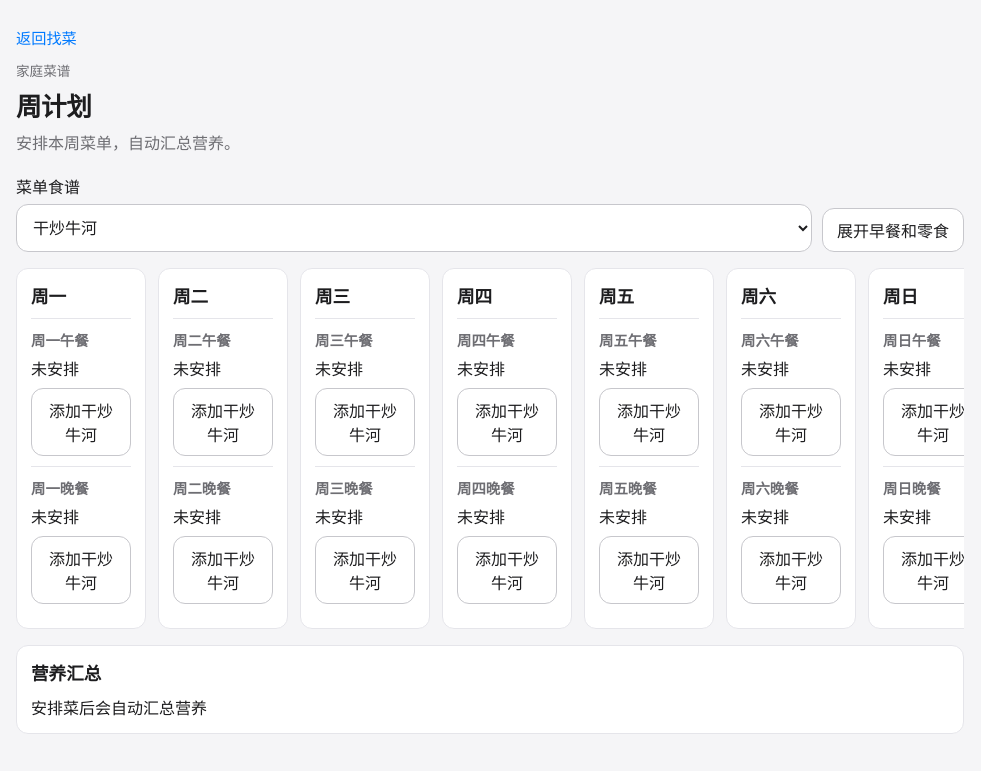
WeekPlanner › adds a dish to Wednesday dinner and shows known nutrition totals
Click the button with aria-label "添加到周三晚餐".
click(365, 570)  # box [315,536,415,604]
(page scrolled)
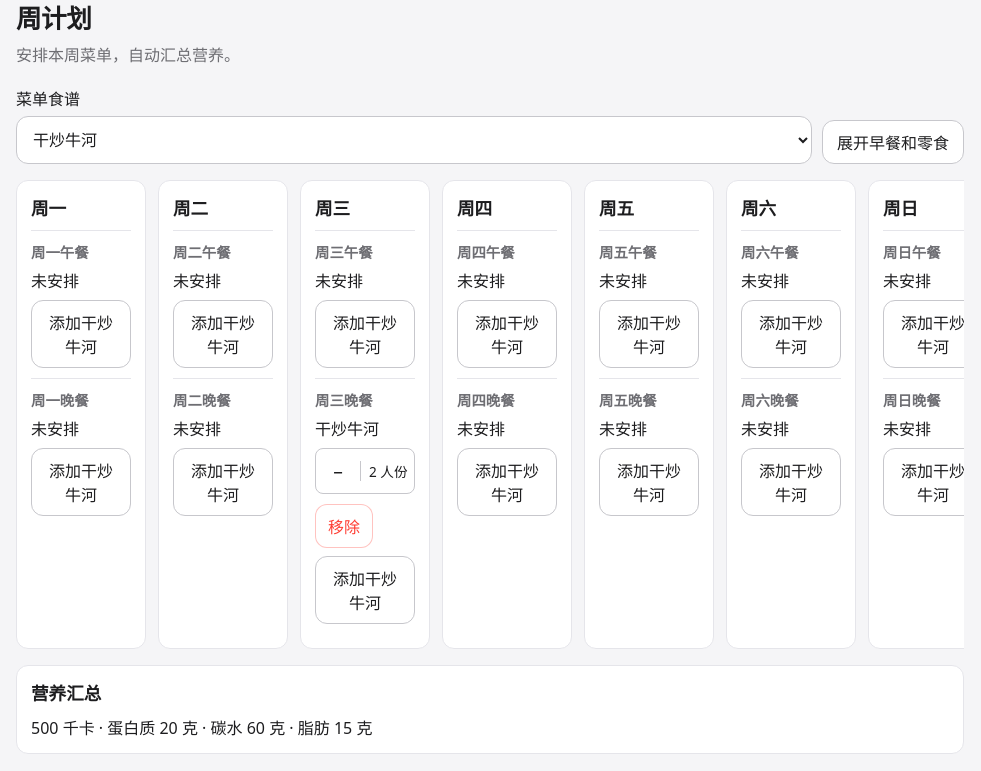
expect the text "干炒牛河" is shown: met, box [315,418,379,440]
expect the text "500 千卡 · 蛋白质 20 克 · 碳水 60 克 · 脂肪 15 克" is shown: met, box [31,717,372,739]
